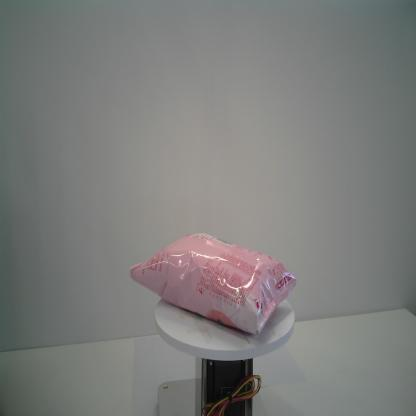Puffed Food: (128, 232, 298, 339)
